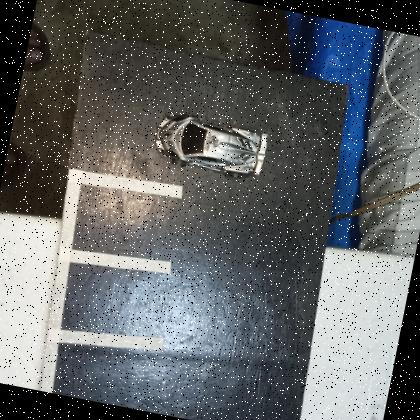Car: (148, 106, 273, 185)
